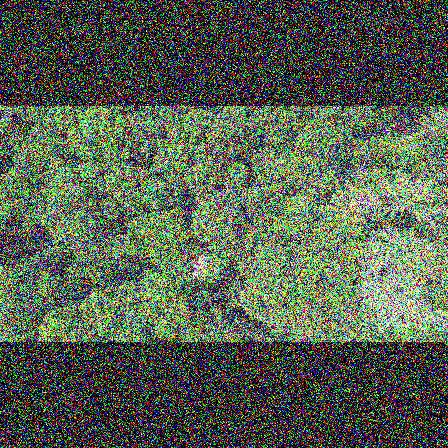Dead: (336, 158, 372, 186), (352, 192, 384, 217)
